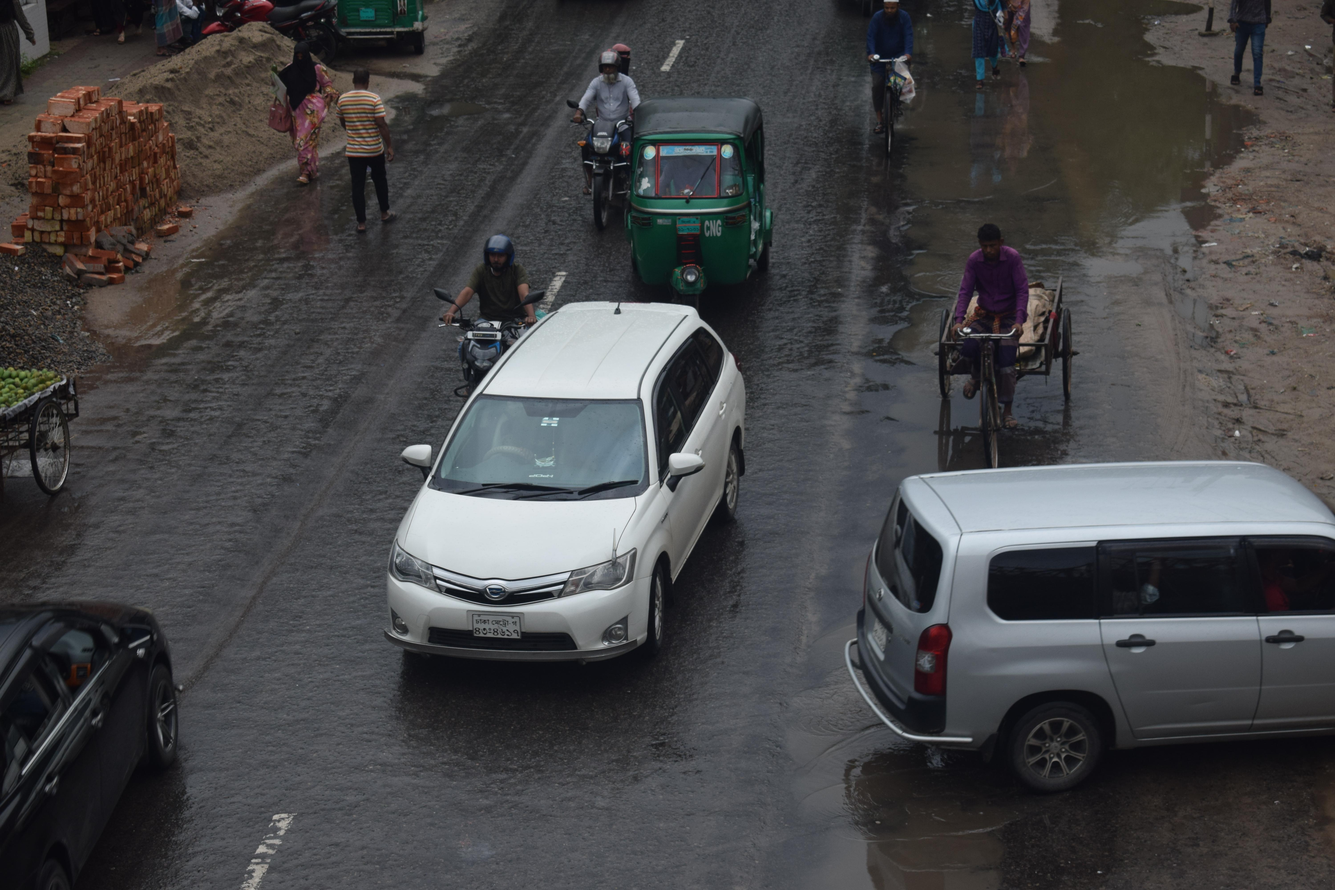Bike: (403, 203, 546, 409), (530, 25, 645, 256)
Car: (773, 430, 1335, 834), (353, 296, 772, 713), (0, 567, 237, 882), (878, 189, 1114, 494)
